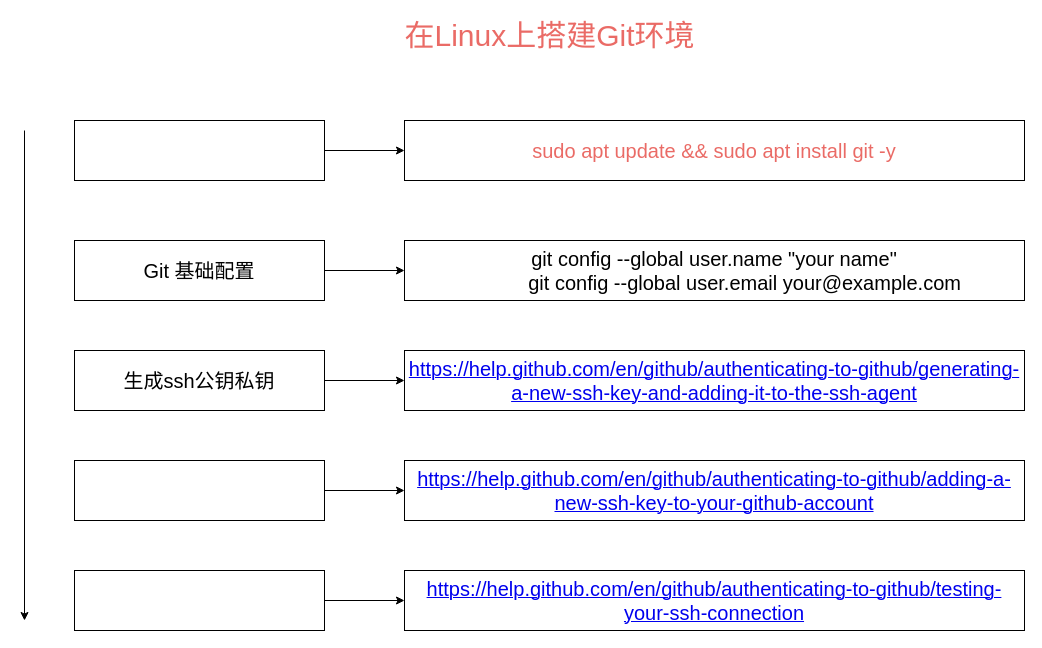
This 1042x648 diagram has some shape labels left out. Each missing label, with the centre of its shape:
"安装Git" goes at pixel 199 150.
"将公钥添加到Github" goes at pixel 199 490.
"测试ssh连接" goes at pixel 199 600.
